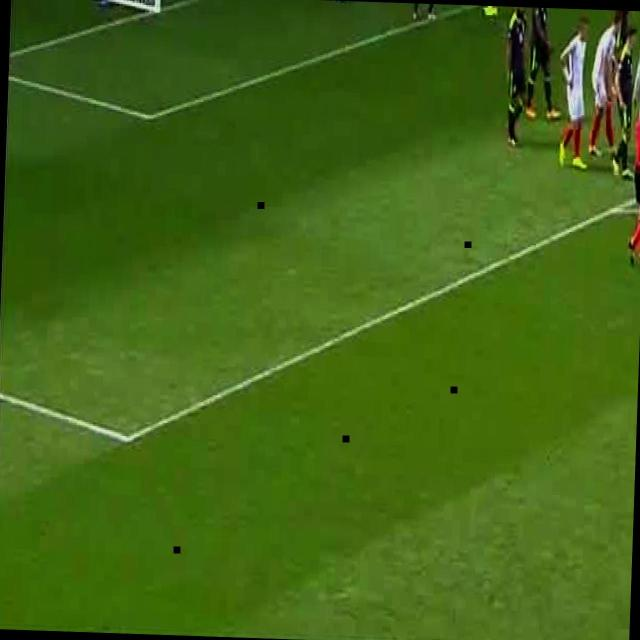player-white: (556, 16, 592, 170), (590, 14, 622, 158), (524, 7, 564, 120), (610, 27, 638, 180), (502, 6, 529, 146), (626, 90, 640, 266), (629, 14, 640, 192), (611, 10, 633, 94), (410, 3, 436, 21), (466, 5, 505, 15)
